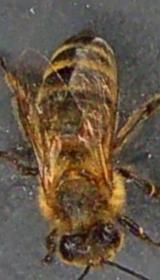varroa_mite: (70, 116, 106, 148)
